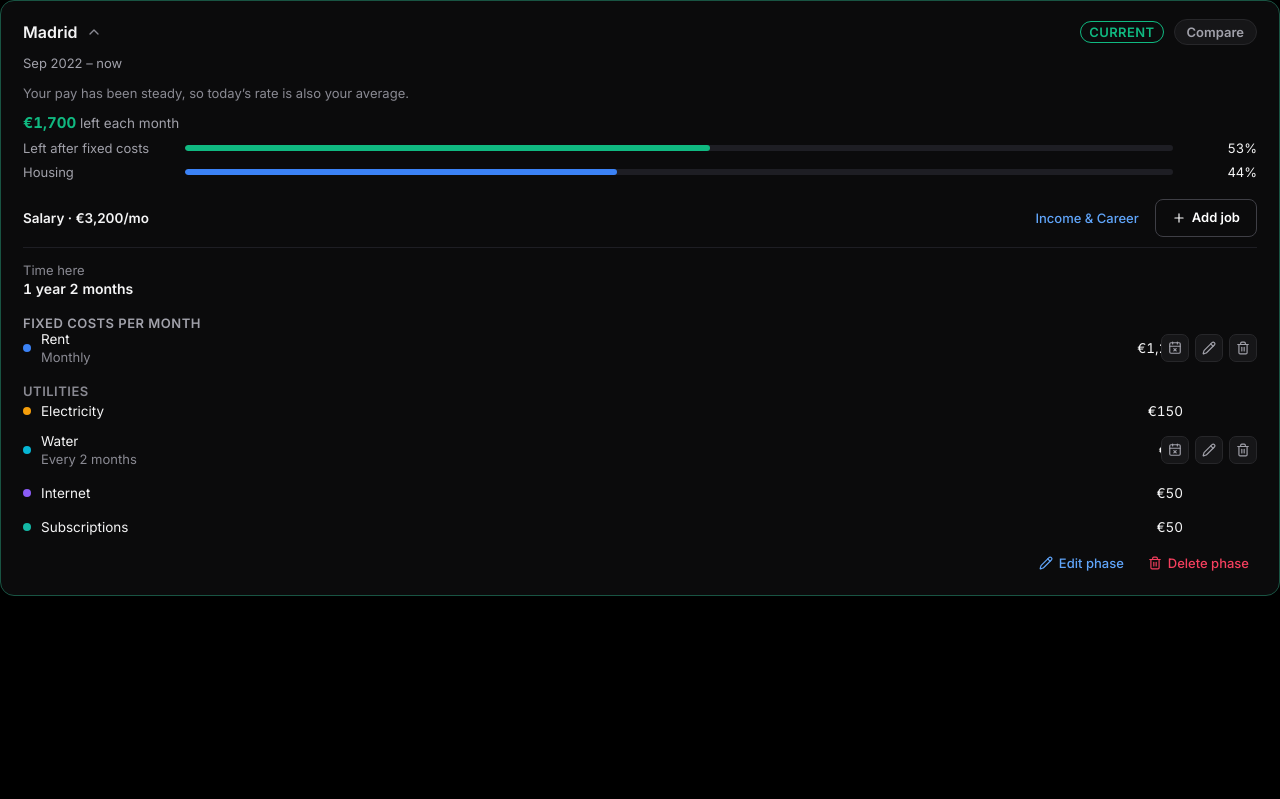
Test: LivingPhaseCard costs › edits a bill with its current values filled in
This screenshot has width=1280, height=799.
Later steps or results of the test are not shown.
Step 1. Click the button named "Edit Rent Landlord" → (1209, 348), box [1195,334,1223,362]
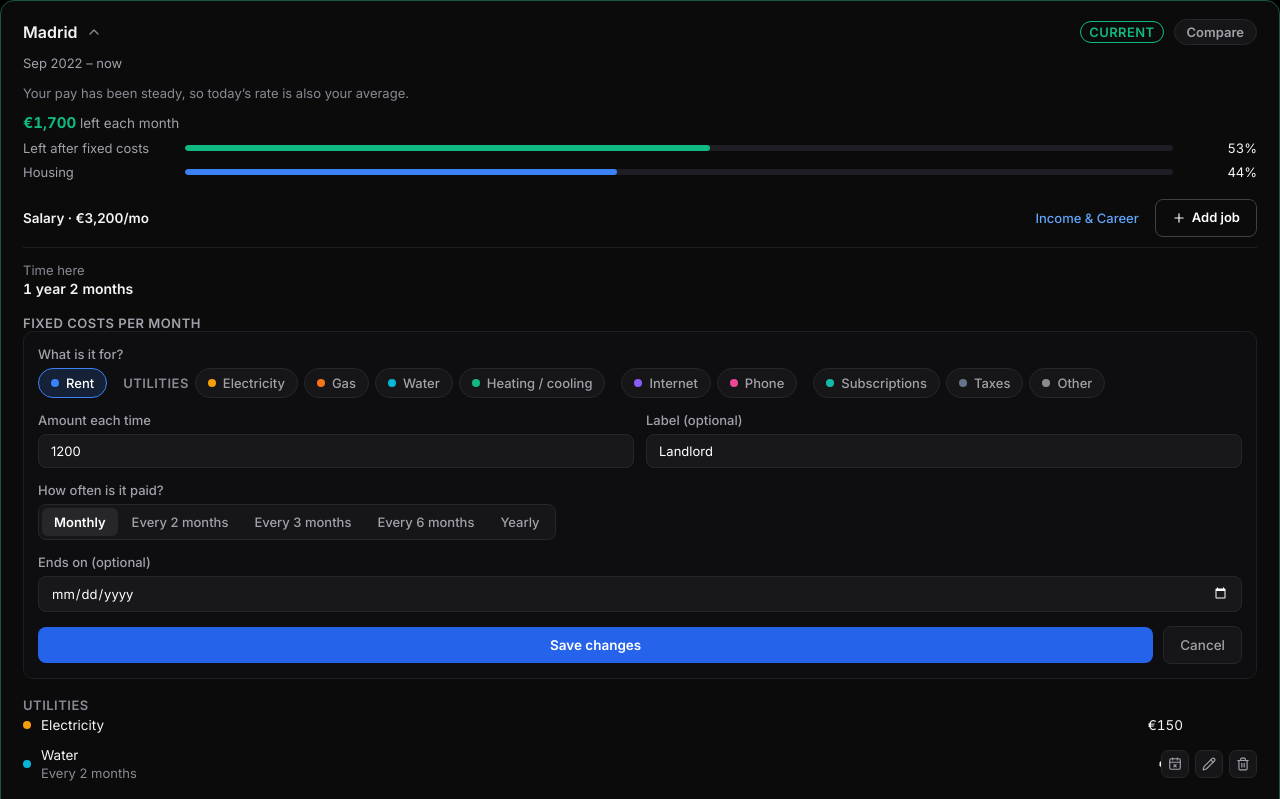
Now the field labelled "Amount each time" holds "1200", box [38,434,634,468]
